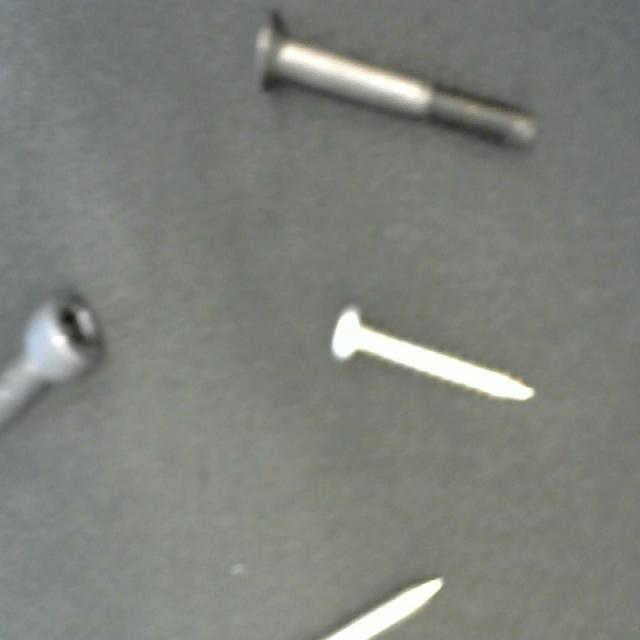FlatHeadSocketScrew: (252, 6, 545, 165)
SheetMetalScrew: (325, 295, 535, 421)
SocketHeadCapScrew: (0, 287, 109, 448)
WoodScrew: (287, 572, 454, 640)
